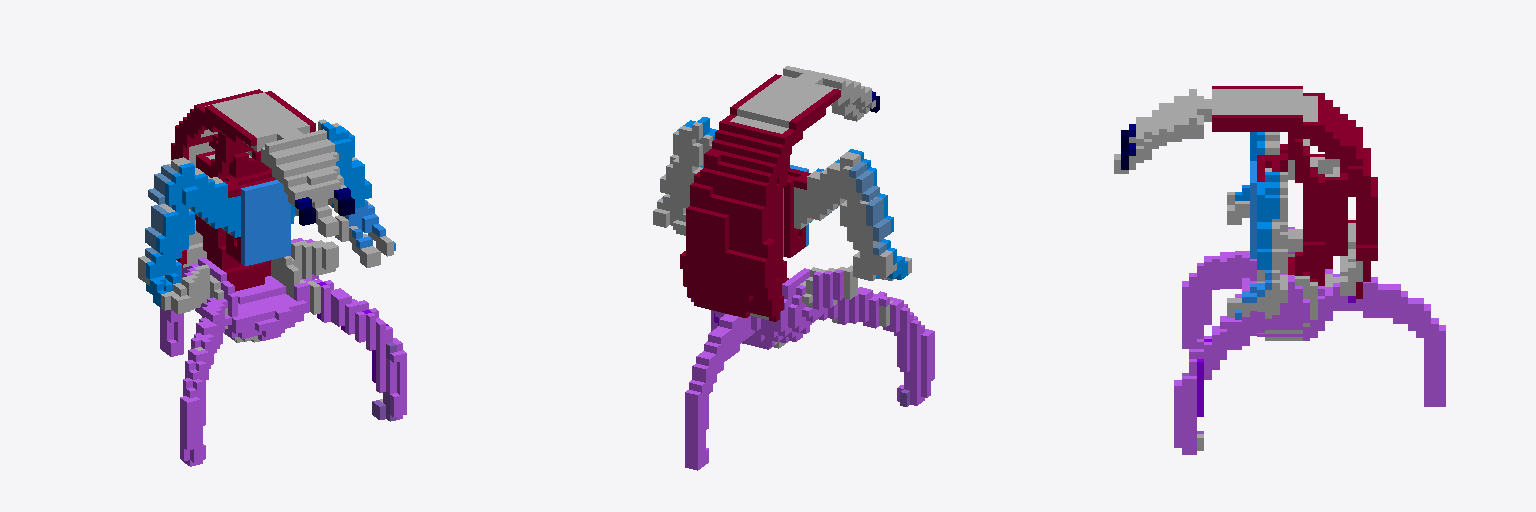
The picture shows the model from 3 angles: view 1: azimuth 30°, elevation 25°; view 2: azimuth 150°, elevation 25°; view 3: azimuth 270°, elevation 25°; orthographic projection.
Visible parts, largest first — view 1: object 1, Head; view 2: object 1, Head; view 3: object 1, Head.
Boxes of the visible parts, x1,y1,x2,y2 form: object 1: [138, 89, 406, 466]; Head: [261, 129, 354, 237]; object 1: [653, 74, 934, 470]; Head: [783, 66, 879, 121]; object 1: [1174, 86, 1445, 454]; Head: [1114, 89, 1211, 173].
Size of the model in its own units: 36 by 44 by 44.
Materials: 1 (1 with a texture image).